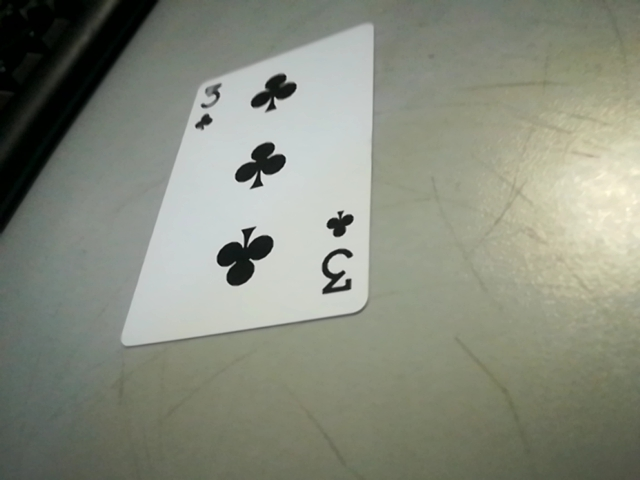mh 3: (313, 207, 368, 305)
